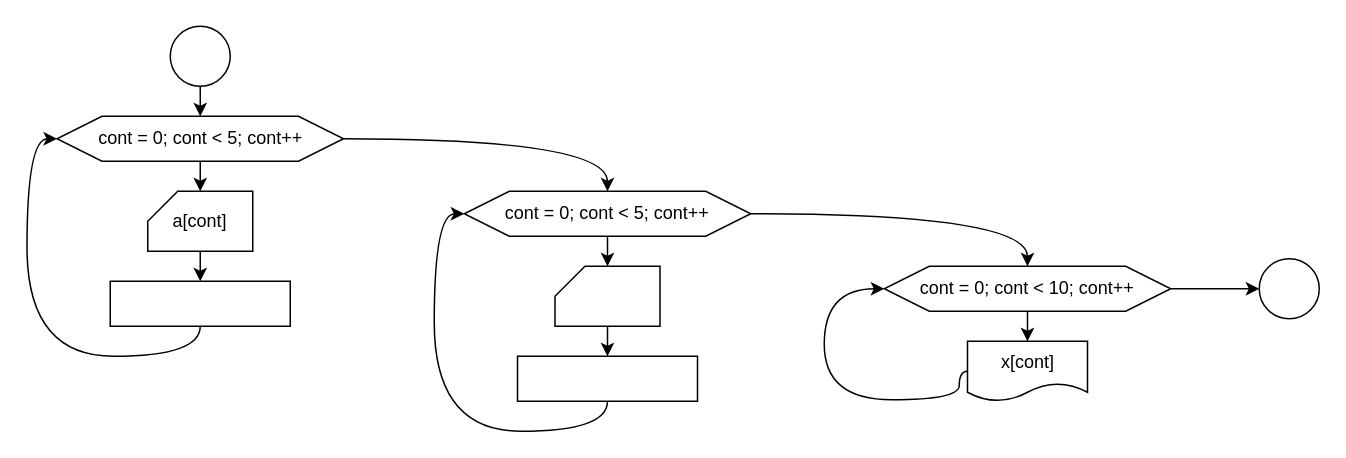
The diagram is 1346 pixels wide and 458 high, and some of its shapes have lost their labels. The centre of each missing label's shape, as x and y in pixels:
"b[cont]" goes at (607,295).
"x[cont+5] = b[cont];" goes at (607,378).
"x[cont] = a[cont];" goes at (199,303).
